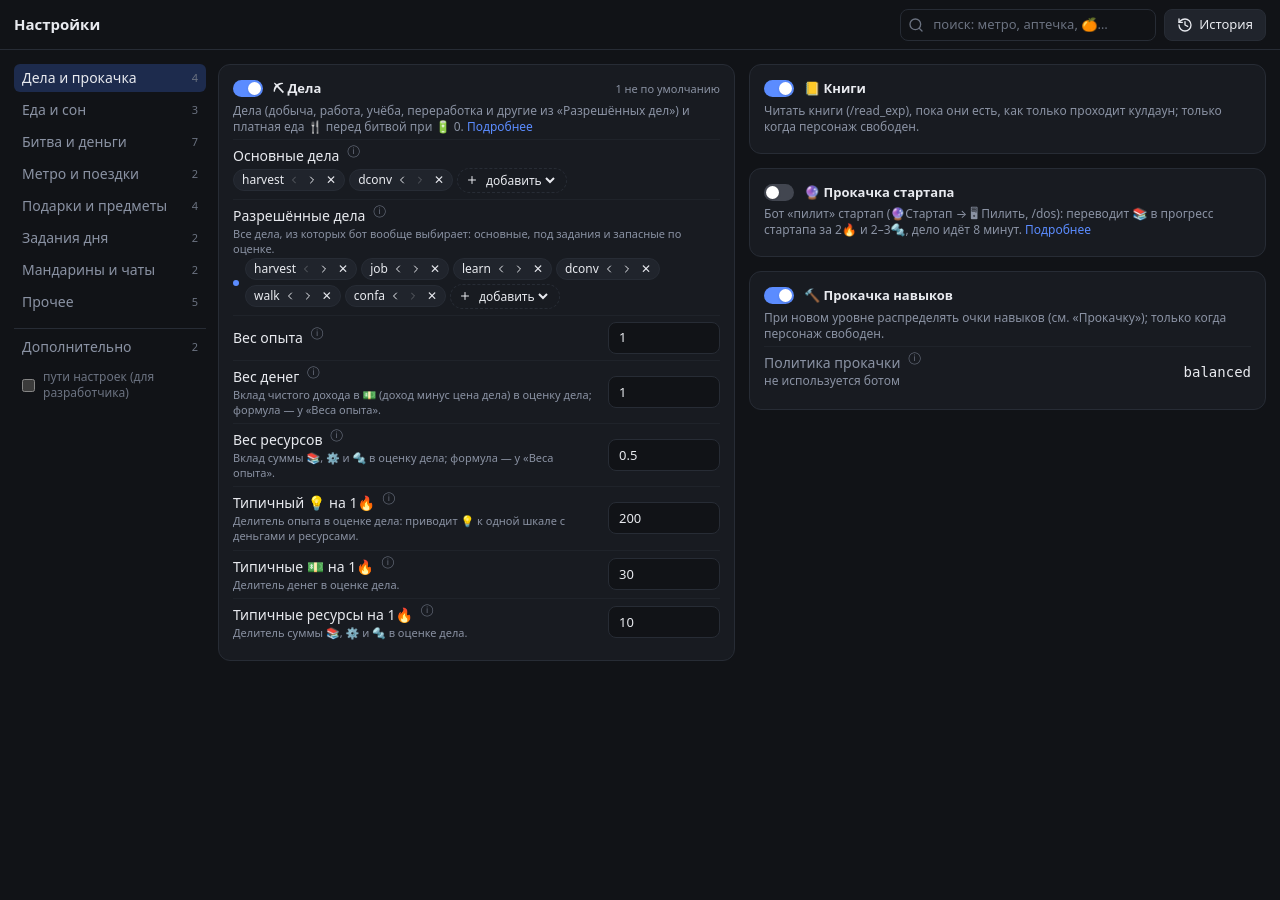
Scenario: Настройки › поле, которого нет в таблице (сервер новее), — в «Прочих настройках», меняется
This screenshot has width=1280, height=900.
Click the button "Дополнительно 2": click(110, 347) [14,333,206,361]
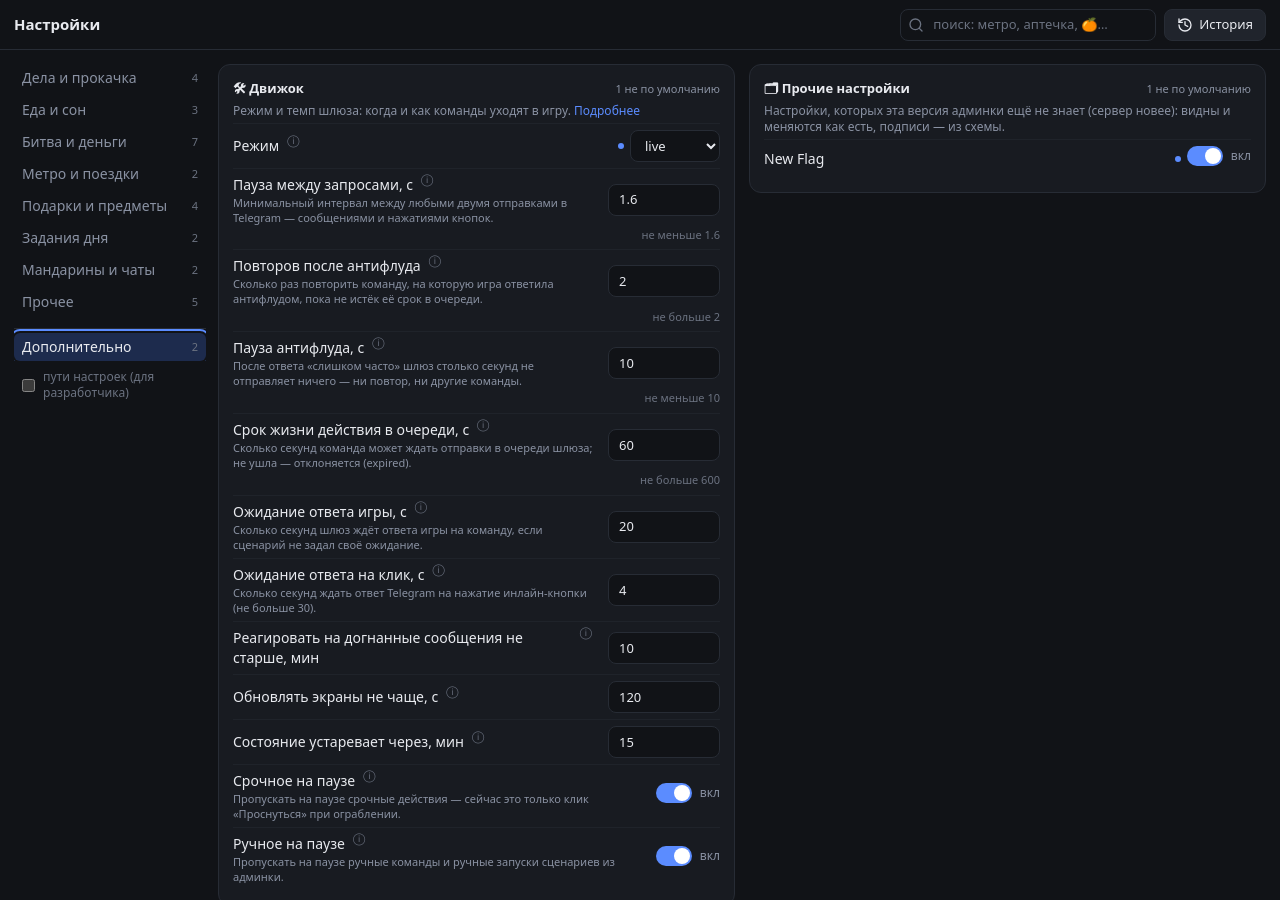
Result: the switch labelled "New Flag" is checked
Click the switch labelled "New Flag": click(794, 158) [764,148,824,168]
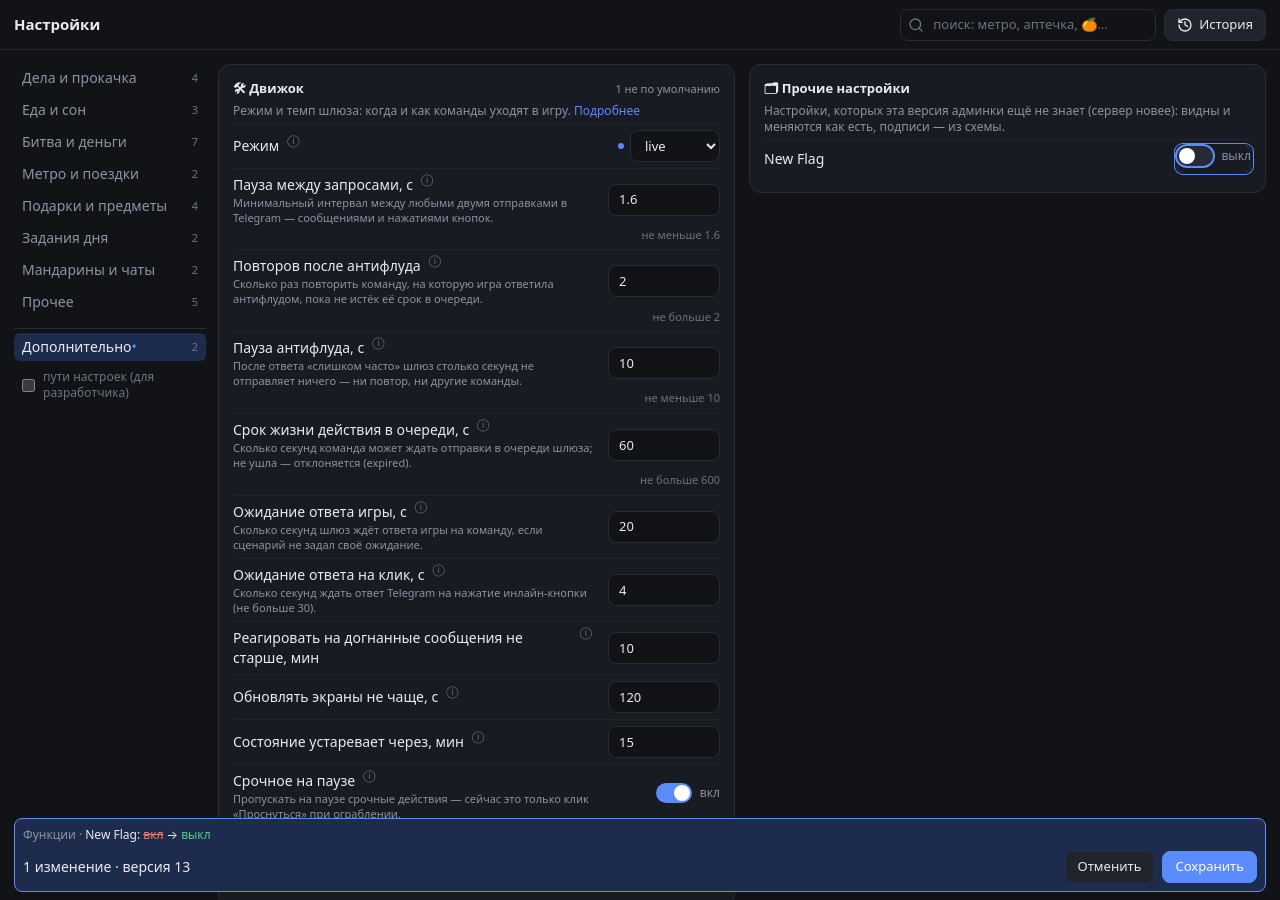
Result: the button named "Дополнительно, есть несохранённые правки" shows "•" at [14,333,206,361]
Result: the element named "Несохранённые изменения" shows "Функции · New Flag: вкл → выкл" at [14,818,1266,892]
